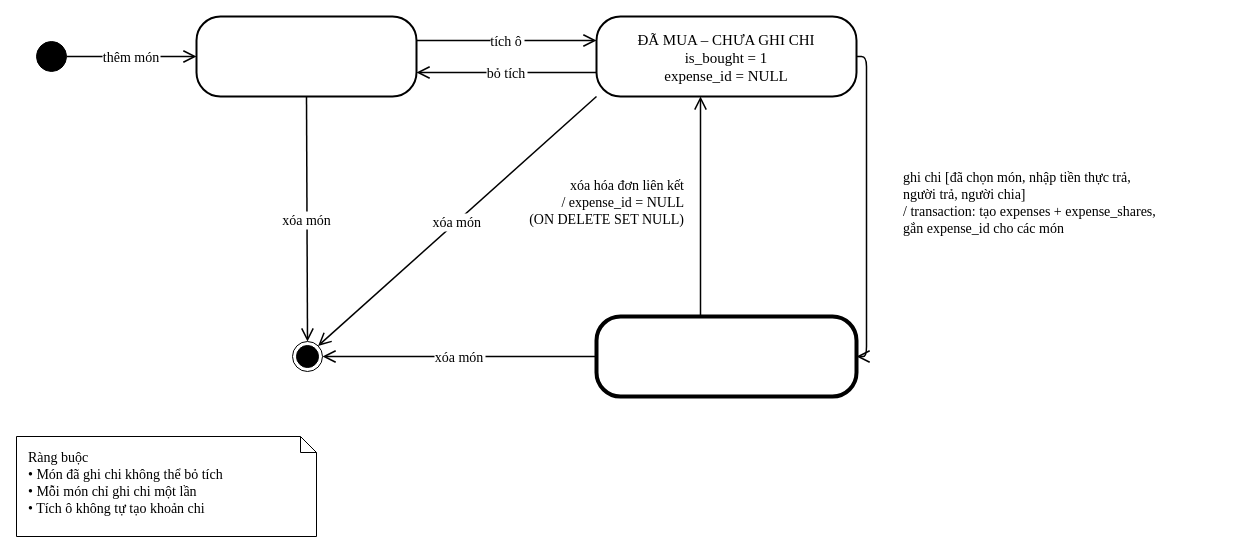
Image size: 1238x553. Some labels were removed from this diagram. Here are the shapes that lost their labels. From the top down, the centre of each, then its label:
point (306, 56): CẦN MUA is_bought = 0 expense_id = NULL
point (726, 356): ĐÃ GHI CHI is_bought = 1 expense_id = id hóa đơn
